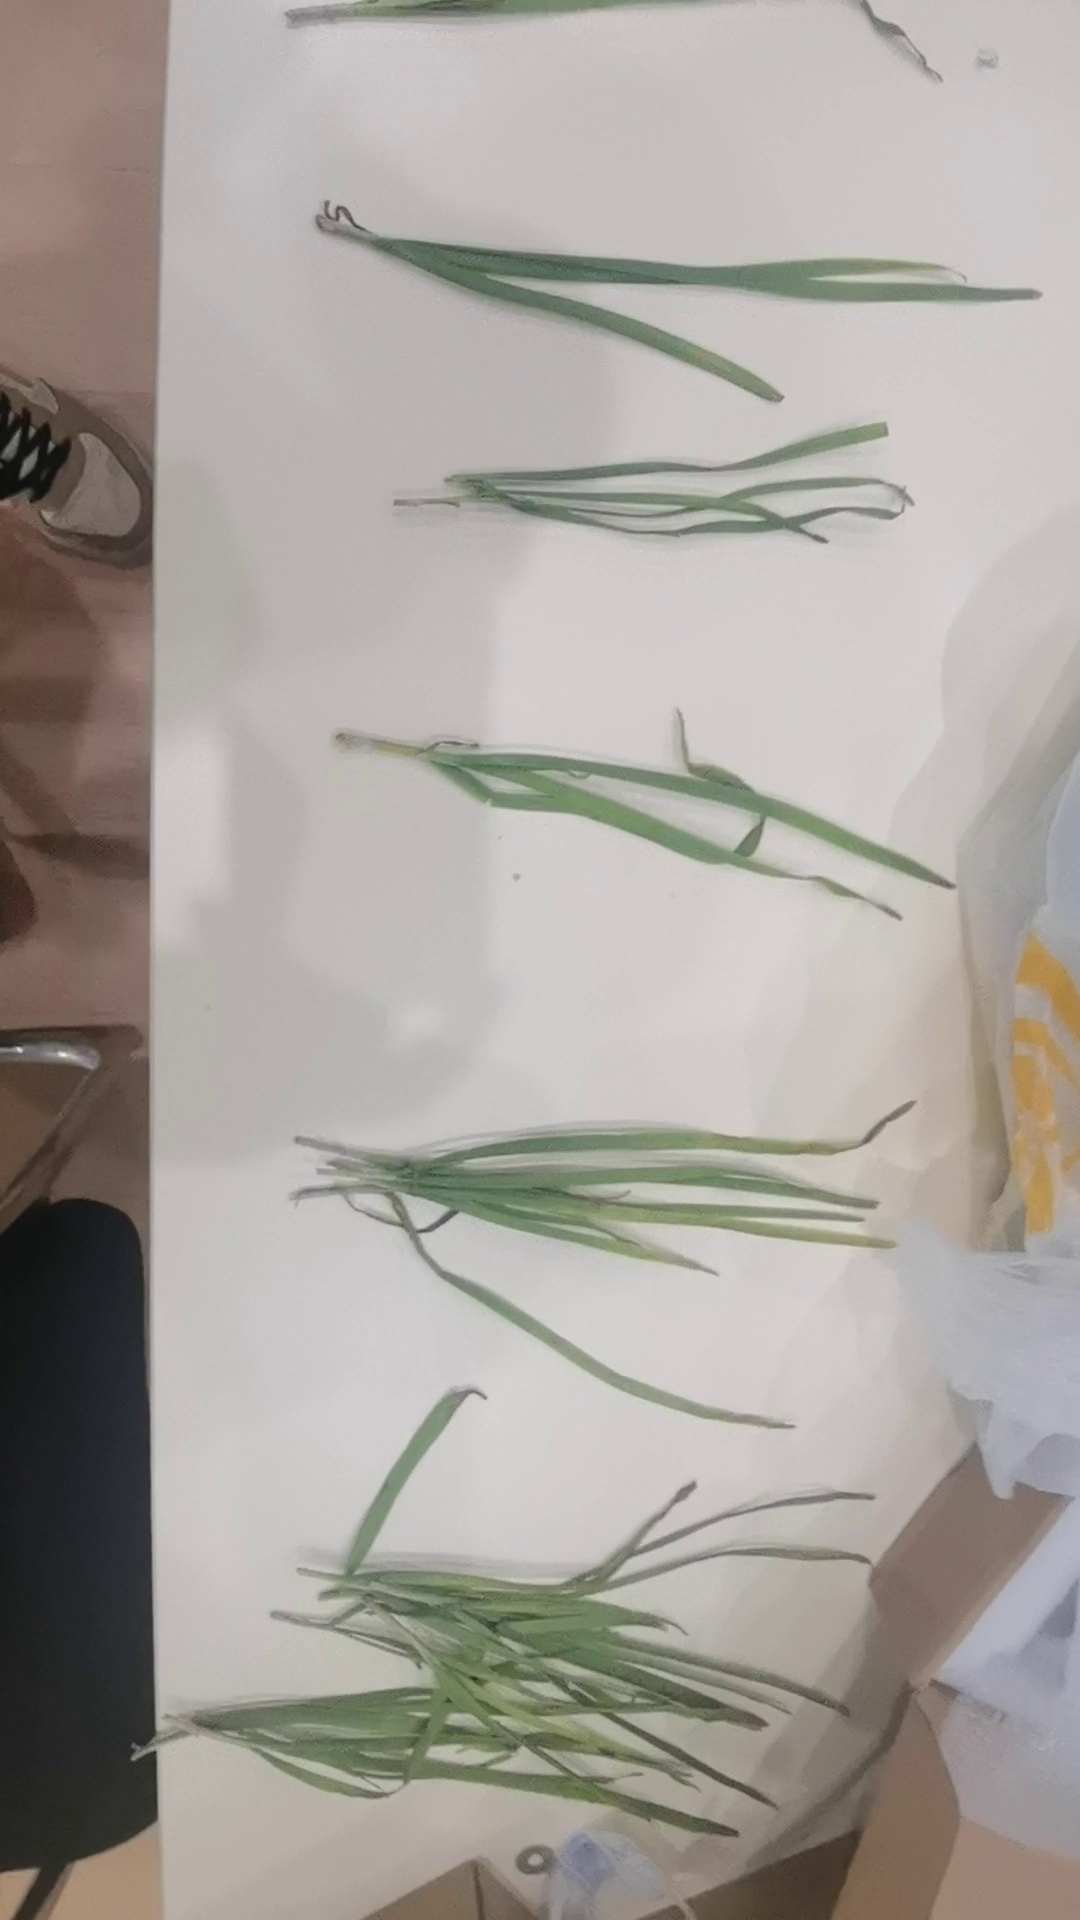chives: (124, 1429, 965, 1868), (224, 1086, 1002, 1413), (251, 135, 1034, 372), (316, 698, 1004, 945), (320, 388, 971, 592), (273, 4, 979, 66)
